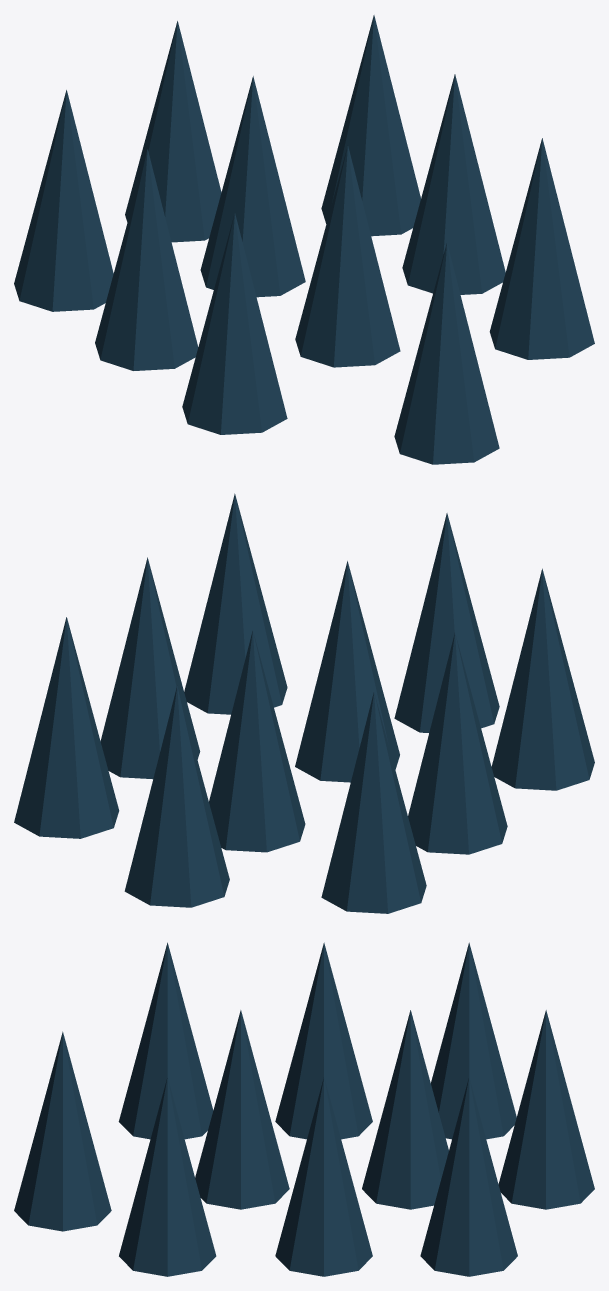
Rendered from Spikes.gltf.
3 renders of one model, top to bottom at view 1: azimuth 30°, elevation 25°; view 2: azimuth 150°, elevation 25°; view 3: azimuth 270°, elevation 25°, orthographic. The views are drawn at different scales.
Visible parts, largest first — view 1: Cone; view 2: Cone; view 3: Cone.
Boxes of the visible parts, x1,y1,x2,y2 form: Cone: [14, 15, 594, 464]; Cone: [14, 493, 594, 913]; Cone: [14, 942, 594, 1276].
Bounding box in the file's own units: 4.2 × 2.24 × 5.86.
